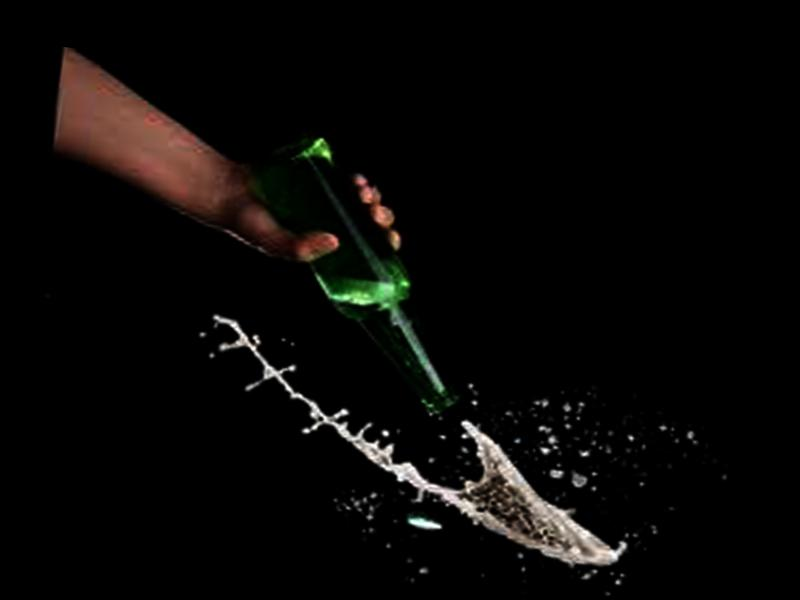Beer: (219, 122, 493, 416)
